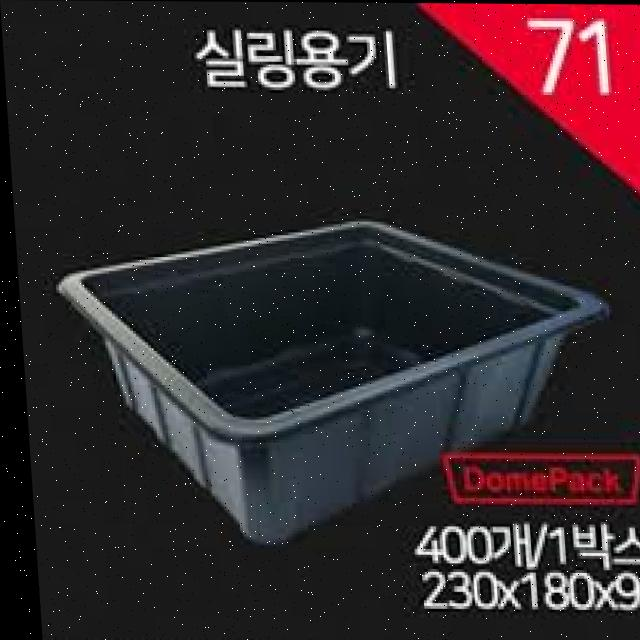disposable: (46, 202, 618, 551)
